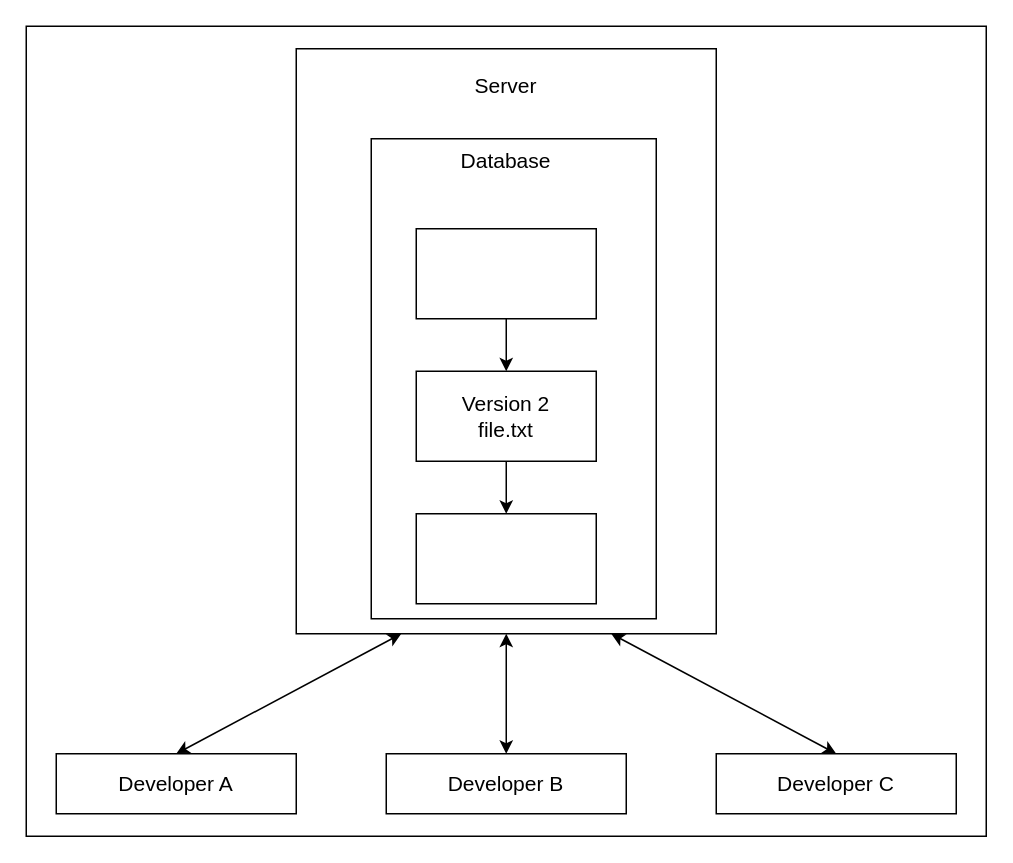
This 1013x863 diagram has some shape labels left out. The centre of each missing label's shape, as x and y in pixels:
"Version 1 file.txt" belongs at point 505,273.
"Version 3 file.txt" belongs at point 505,558.
